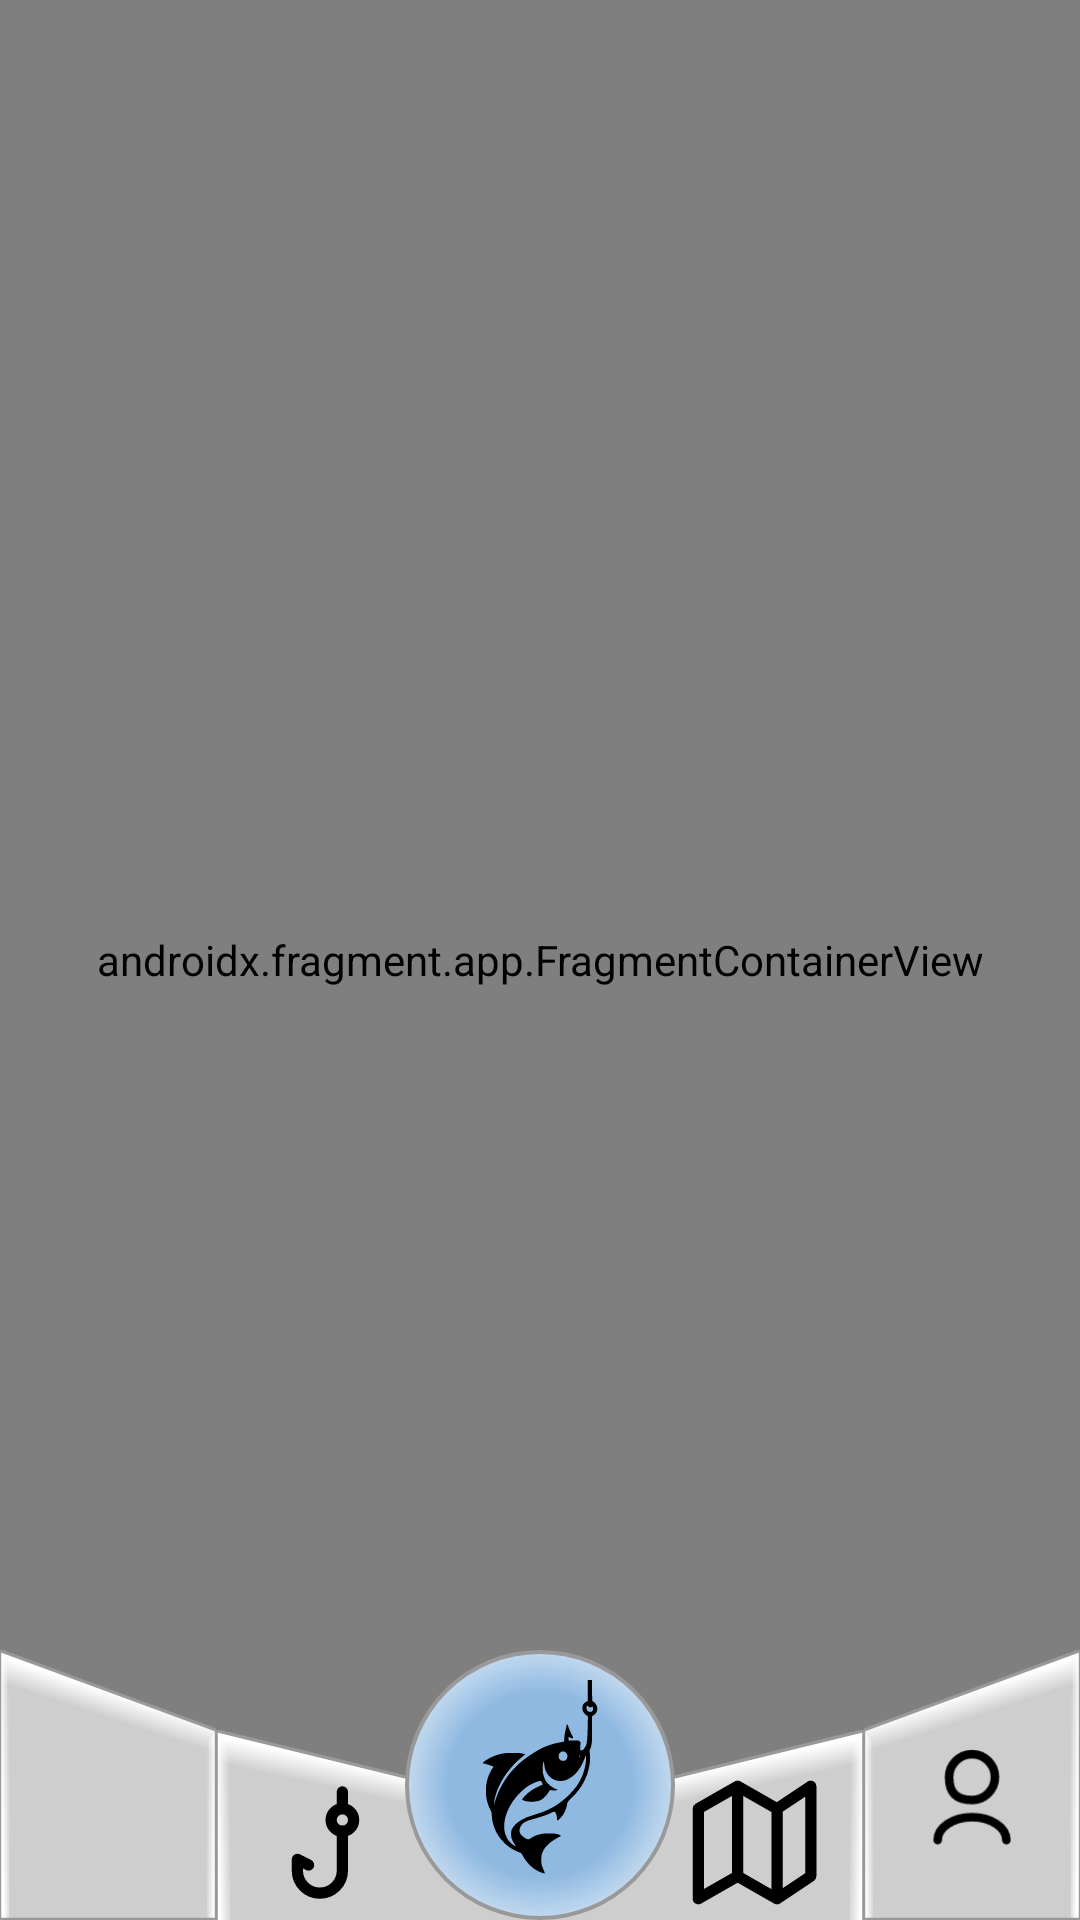

Named icons in this screenshot (1080 × 1920) and their bounding boxes, (x1, y1, x2, y2):
user: (864, 1650, 1080, 1920)
